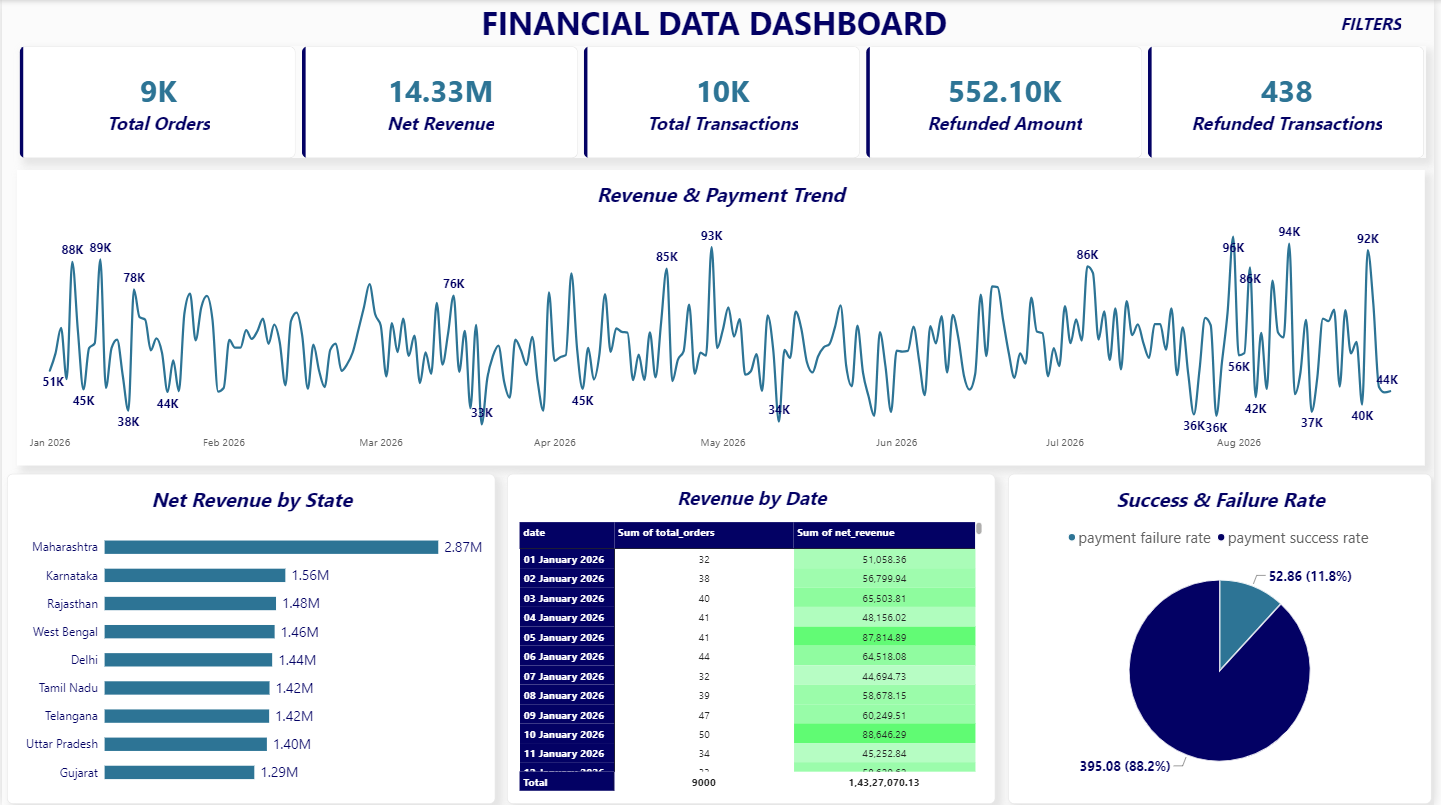

Layout of this report page (visuals, bound fields, positions):
{"tool":"powerbi","page":{"name":"Page 1","canvas":[1920,1080],"ordinal":0},"visuals":[{"type":"textbox","box":[226,0,1468,62],"z":0},{"type":"cardVisual","fields":{"Data":["Sum(Customer_revenue.total_orders)","Sum(daily_revenue.net_revenue)","Sum(daily_payment_summary.total_transactions)","Sum(daily_payment_summary.refunded_amount)","Sum(gateway_performance.refunded_transactions)"]},"box":[24,62,1884,150],"z":1000},{"type":"lineChart","title":"Revenue & Payment Trend","fields":{"Category":["daily_revenue.date"],"Y":["Sum(daily_revenue.net_revenue)"]},"box":[20,228,1886,396],"z":2000},{"type":"clusteredBarChart","fields":{"Category":["Customer_revenue.state","Customer_revenue.city"],"Y":["Sum(Customer_revenue.net_revenue)"]},"box":[6,634,654,442],"z":3000},{"type":"pivotTable","title":"Revenue by Date","fields":{"Rows":["daily_revenue.date"],"Values":["Sum(daily_revenue.total_orders)","Sum(daily_revenue.net_revenue)"]},"box":[677,634,654,442],"z":4000},{"type":"pieChart","title":"Success & Failure Rate","fields":{"Y":["Sum(gateway_performance.payment_failure_rate)","Sum(gateway_performance.payment_success_rate)"]},"box":[1348,634,567,442],"z":5000},{"type":"actionButton","box":[1762,0,144,62],"z":14000}]}

Visuals, with their boxes in screenshot pixels (x1, y1, x2, y2), scaled from the page's 1920x1080 canvas onto the 1441x805 screenshot:
textbox: 170/0/1271/46
cardVisual - Sum(Customer_revenue.total_orders) x Sum(daily_revenue.net_revenue): 18/46/1432/158
"Revenue & Payment Trend" lineChart: 15/170/1430/465
clusteredBarChart - Customer_revenue.state x Customer_revenue.city: 5/473/495/802
"Revenue by Date" pivotTable: 508/473/999/802
"Success & Failure Rate" pieChart: 1012/473/1437/802
actionButton: 1322/0/1430/46
